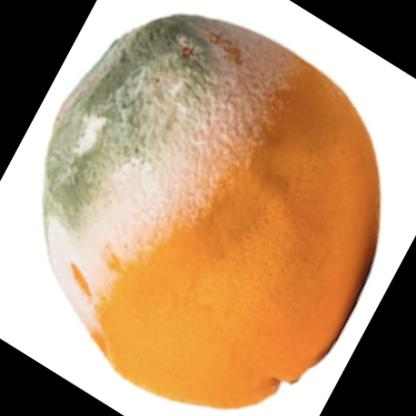rotten: (45, 15, 382, 410)
